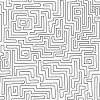maze: (1, 1, 100, 100)
